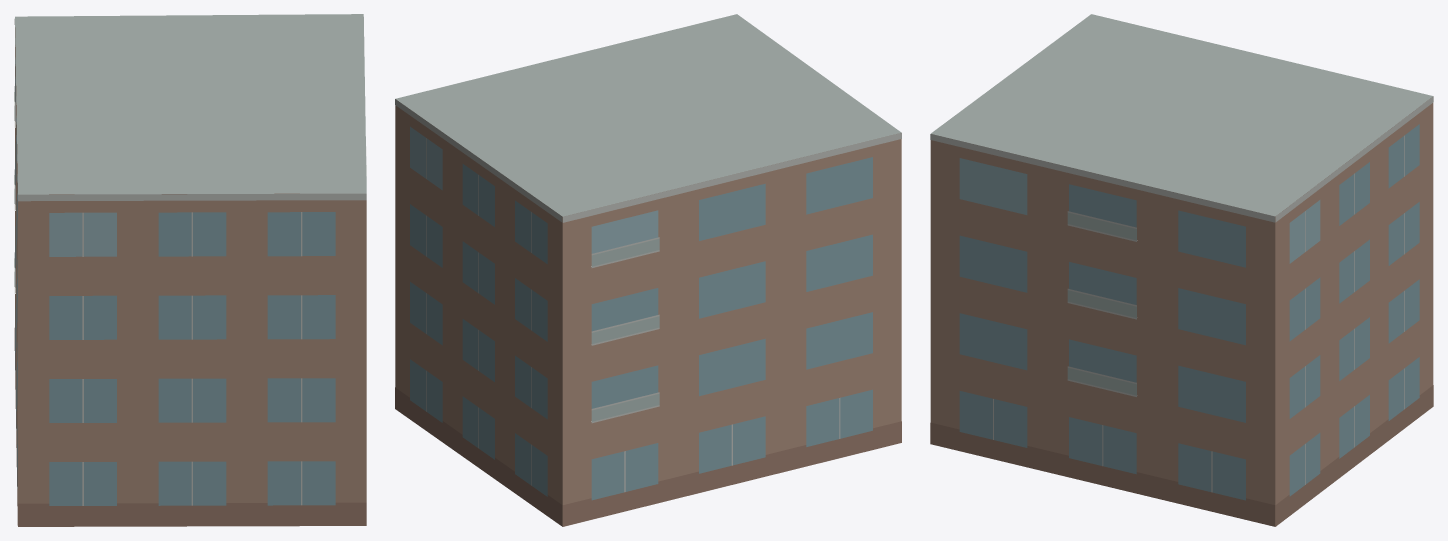
File: survey-upis-32854403.glb
3 renders of one model, left to right at view 1: azimuth 30°, elevation 25°; view 2: azimuth 150°, elevation 25°; view 3: azimuth 270°, elevation 25°, orthographic. The views are drawn at different scales.
Visible parts, largest first — view 1: survey-upis-32854403.tmp; view 2: survey-upis-32854403.tmp; view 3: survey-upis-32854403.tmp.
Boxes of the visible parts, x1,y1,x2,y2 form: survey-upis-32854403.tmp: (14,14,366,526); survey-upis-32854403.tmp: (395,14,901,526); survey-upis-32854403.tmp: (930,14,1433,526).
Size of the model in its own units: 17.08 by 12.2 by 17.93.
